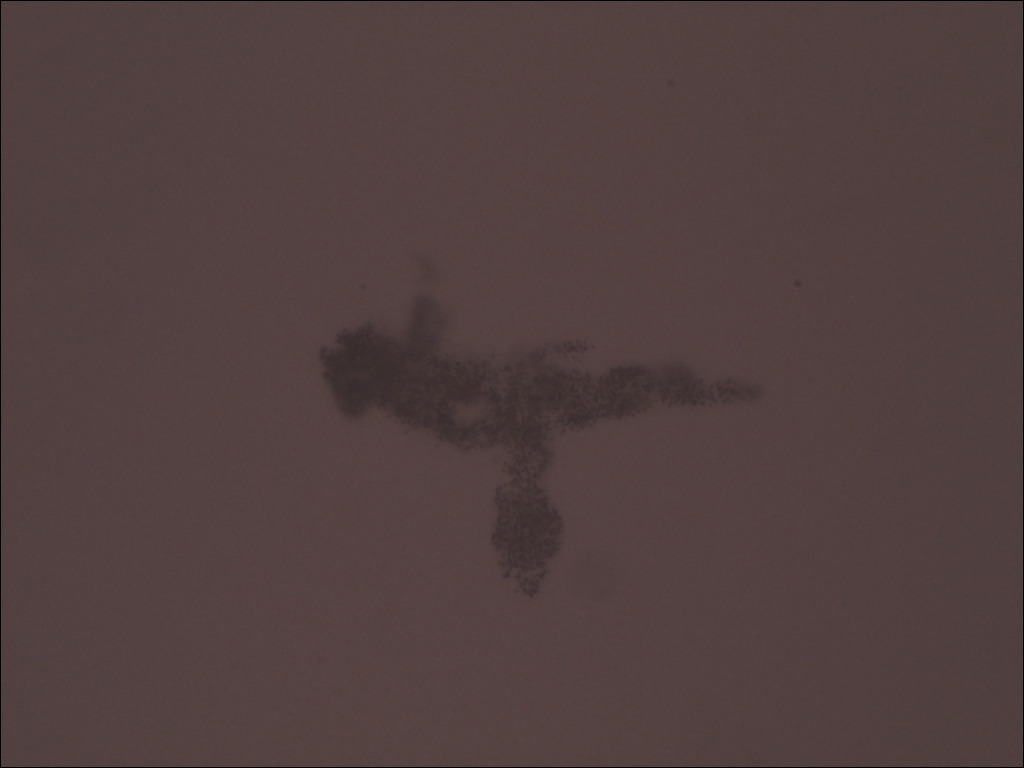amoeba: (309, 287, 786, 611)
